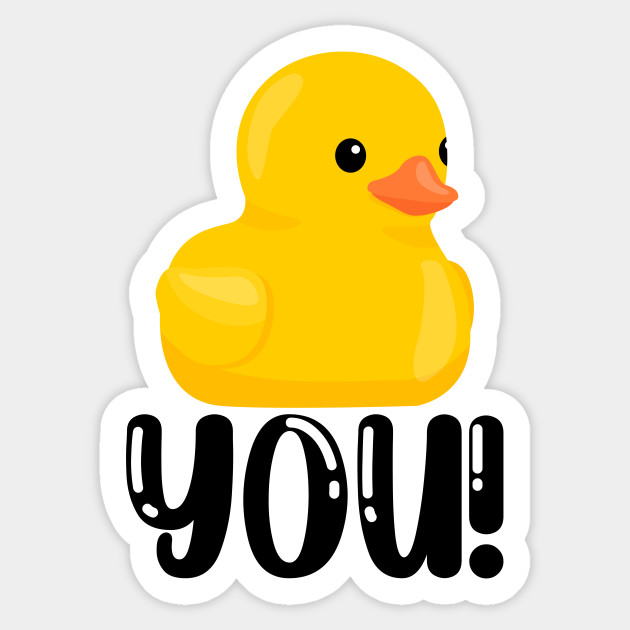Duck: (155, 50, 478, 411)
